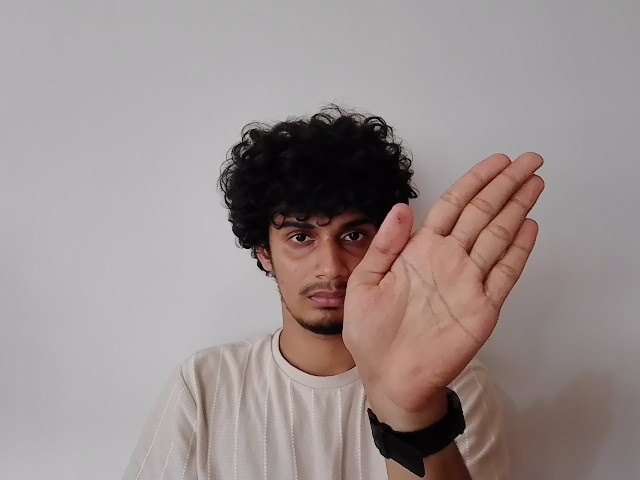hello: (338, 151, 550, 393)
